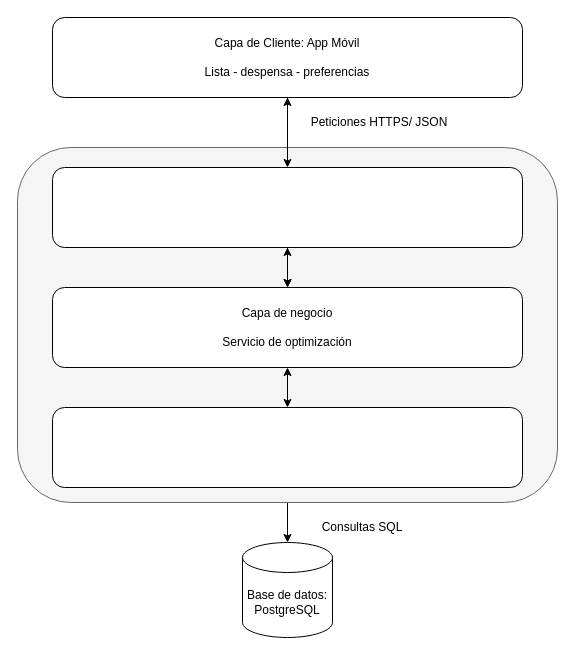
This 575x655 diagram has some shape labels left out. Each missing label, with the centre of its shape:
Capa de Datos: Repositorio: the point at 287,447
Capa de presentación Controlador API Rest: the point at 287,207
